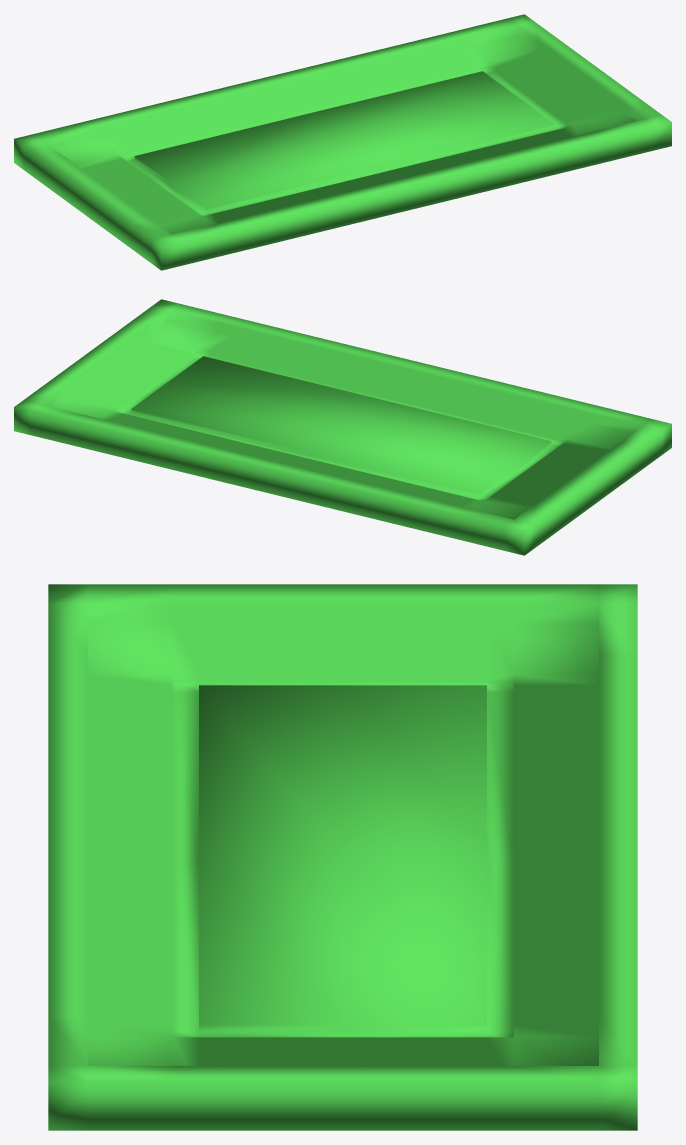
Rendered from SueloRectangular.FBX.
3 views of the same model, one above another, from view 1: azimuth 30°, elevation 25°; view 2: azimuth 150°, elevation 25°; view 3: azimuth 270°, elevation 25° (orthographic). The views are drawn at different scales.
Parts seen in each view (by area): view 1: SueloRectangular_LP; view 2: SueloRectangular_LP; view 3: SueloRectangular_LP.
Part boxes in pixels (x1=…): SueloRectangular_LP: x1=14, y1=14, x2=671, y2=270; SueloRectangular_LP: x1=14, y1=299, x2=671, y2=555; SueloRectangular_LP: x1=48, y1=584, x2=637, y2=1130.
Size of the model in its own units: 2 by 0.09 by 1.
